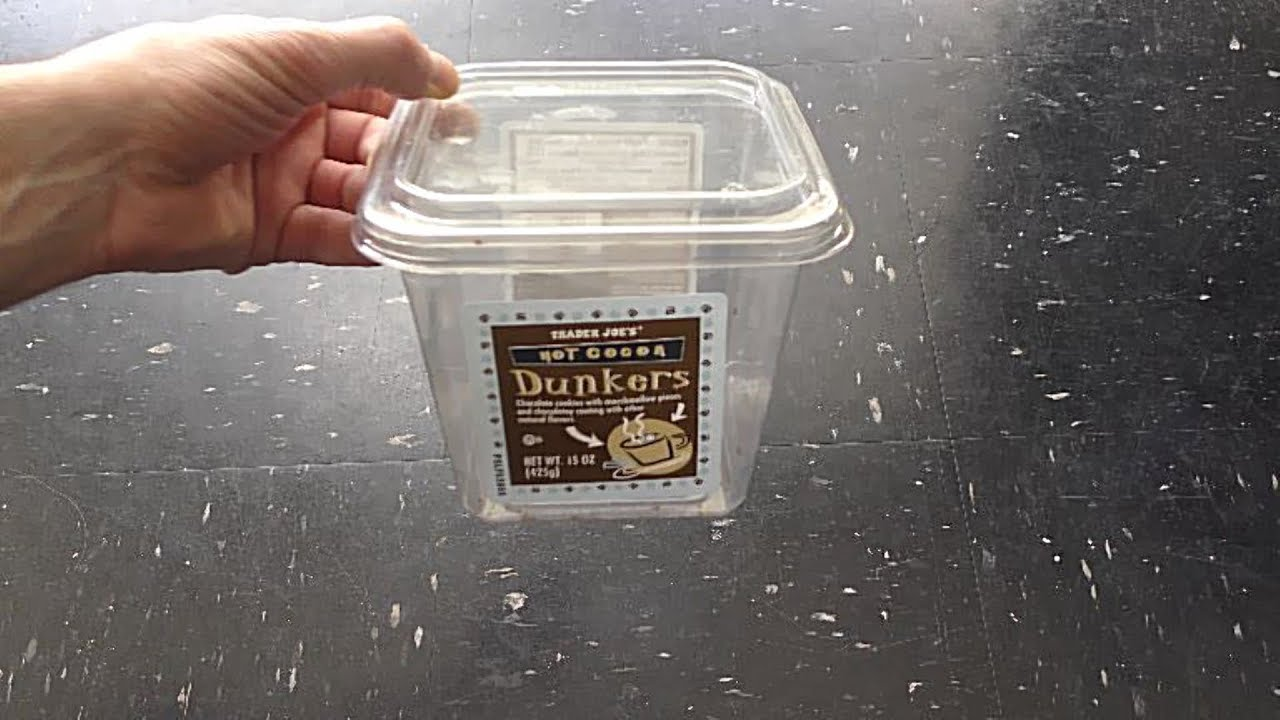PlasticBox: (344, 53, 861, 527)
